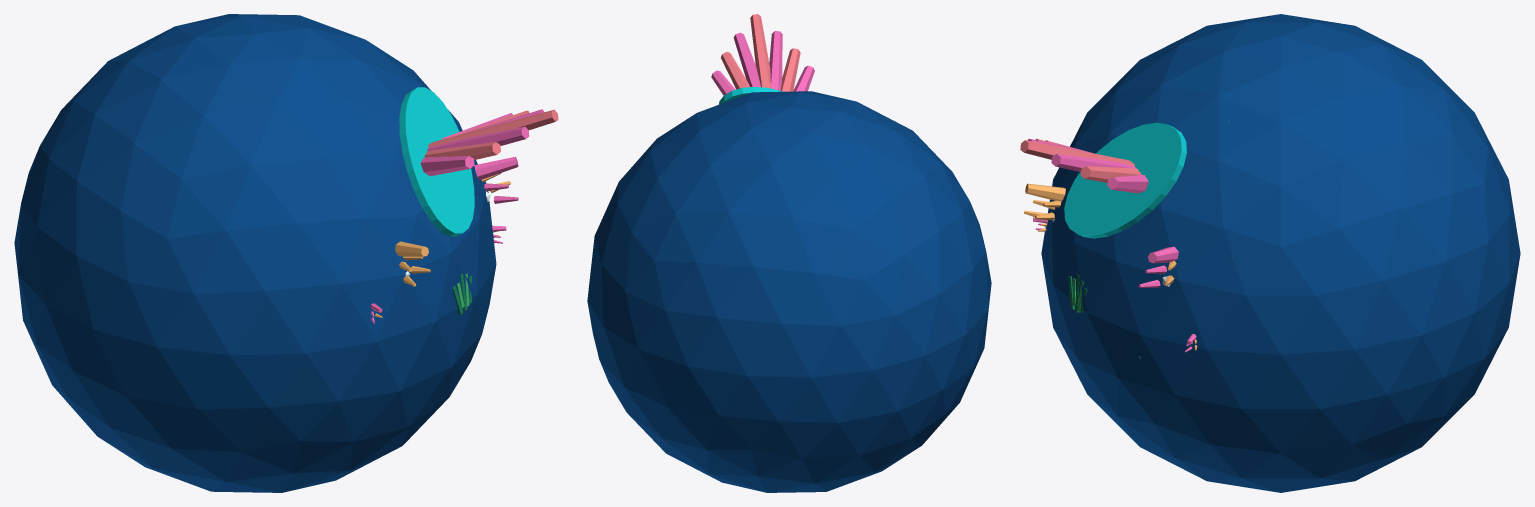
File: Ocean_01.fbx
3 views of the same model, side by side, from view 1: azimuth 30°, elevation 25°; view 2: azimuth 150°, elevation 25°; view 3: azimuth 270°, elevation 25° (orthographic). The views are drawn at different scales.
Visible parts, largest first — view 1: Ocean_01; view 2: Ocean_01; view 3: Ocean_01.
Part boxes in pixels (x1,y1,x2,y2): Ocean_01: (14, 14, 558, 492); Ocean_01: (587, 14, 991, 492); Ocean_01: (1020, 14, 1520, 492).
Size of the model in its own units: 6 by 6 by 6.26.
1 material, 1 textured.
